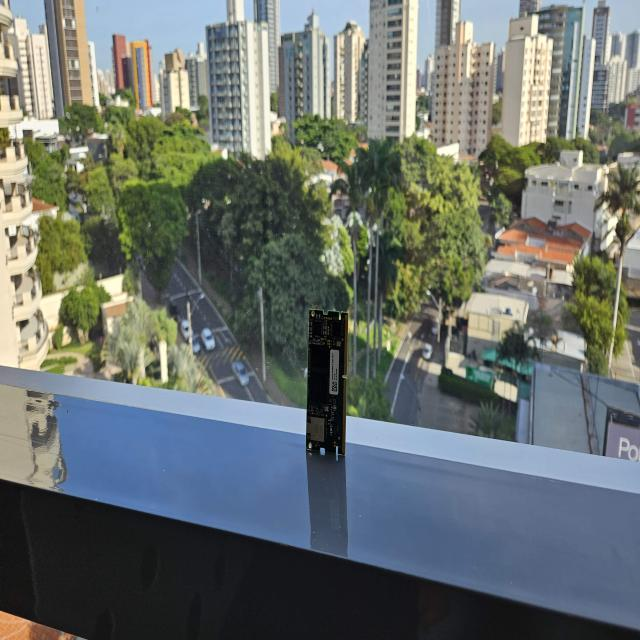som: (304, 298, 351, 471)
